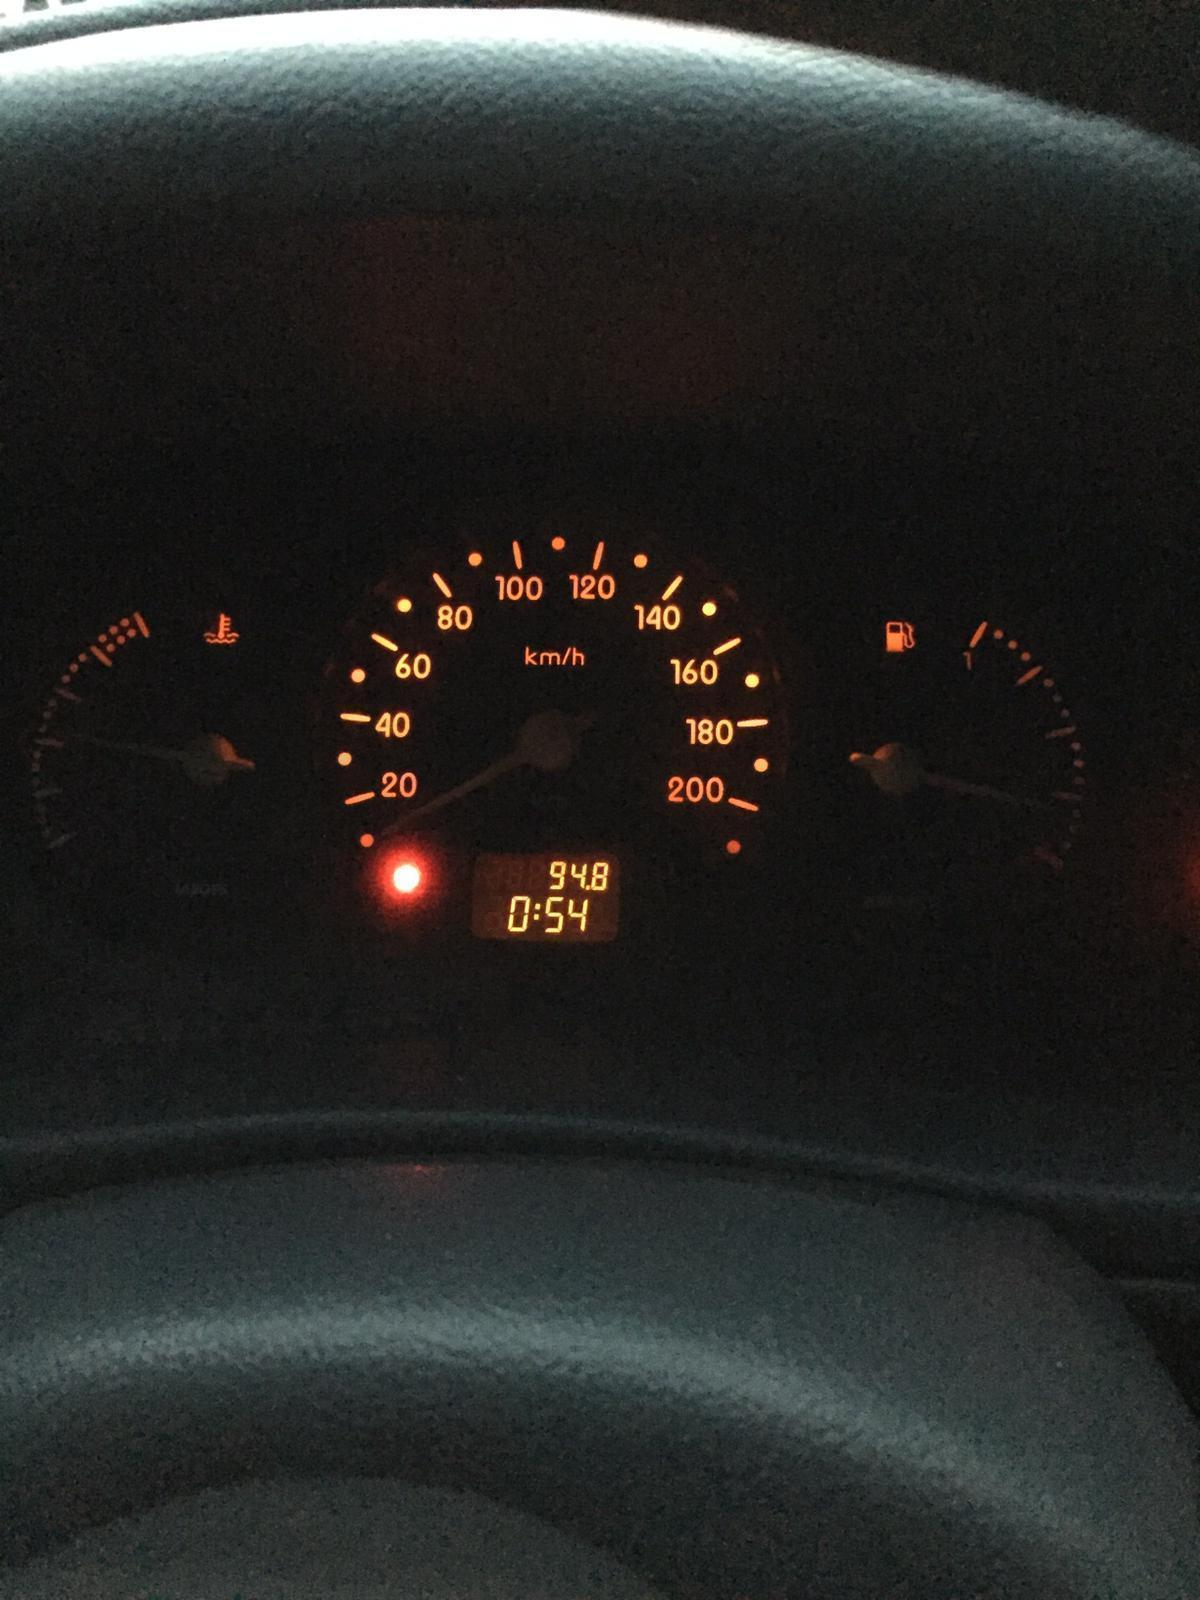,: (585, 884, 591, 891)
0: (507, 894, 531, 932)
4: (566, 898, 587, 932), (570, 863, 587, 888)
5: (545, 894, 563, 932)
8: (590, 860, 609, 889)
9: (548, 860, 566, 889)
X: (532, 902, 541, 921)
odometer: (466, 848, 623, 947)
